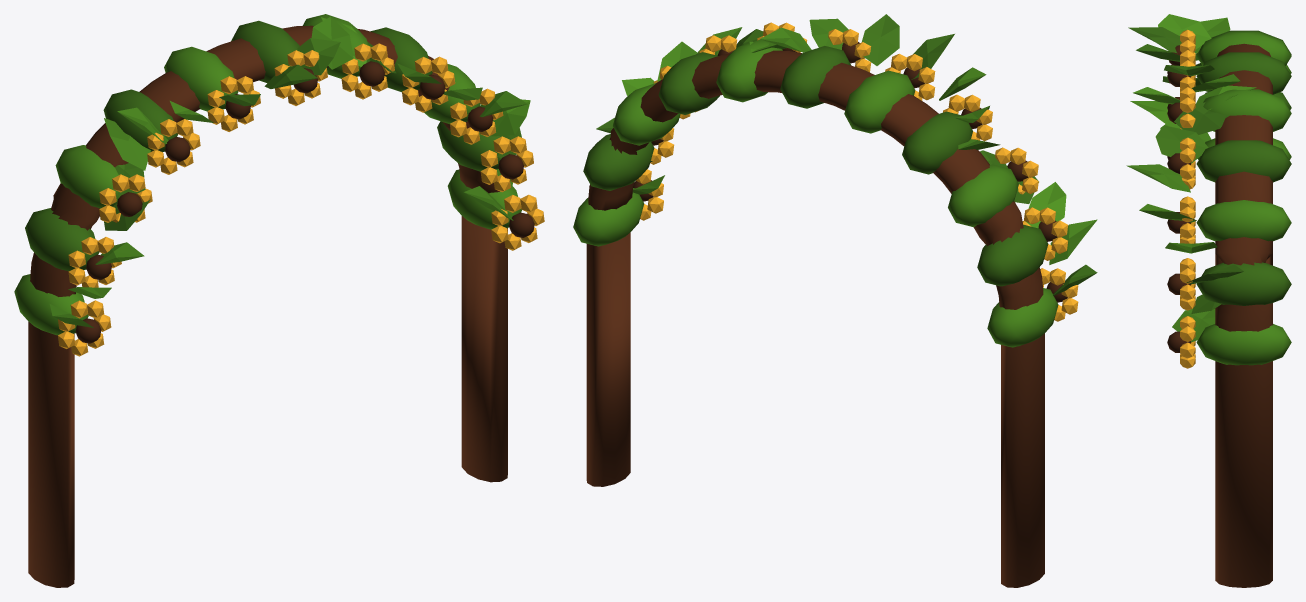
File: flower-arch.glb
3 views of the same model, side by side, from view 1: azimuth 30°, elevation 25°; view 2: azimuth 150°, elevation 25°; view 3: azimuth 270°, elevation 25° (orthographic). The views are drawn at different scales.
Visible parts, largest first — view 1: flower-arch; view 2: flower-arch; view 3: flower-arch.
Boxes of the visible parts, bbox=[...] form: flower-arch: bbox=[14, 14, 544, 587]; flower-arch: bbox=[573, 14, 1097, 587]; flower-arch: bbox=[1126, 14, 1291, 587].
Size of the model in its own units: 3.2 by 3.05 by 1.05.
